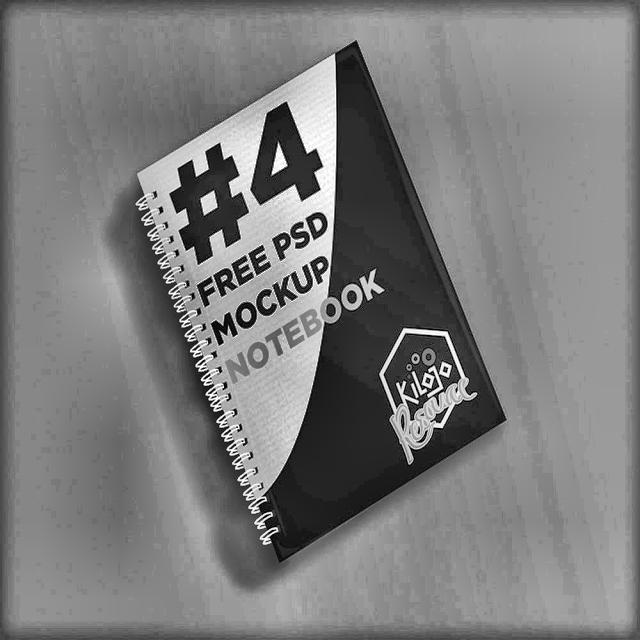Notebook: (103, 19, 524, 580)
